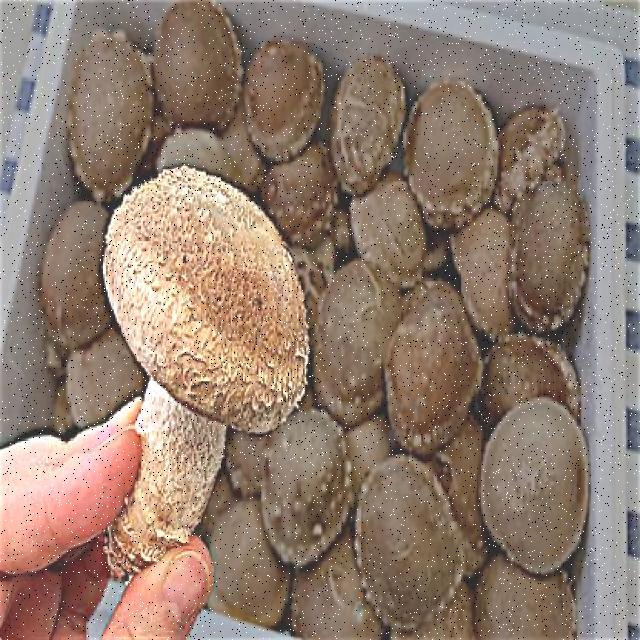Mushroom: (64, 150, 318, 599)
